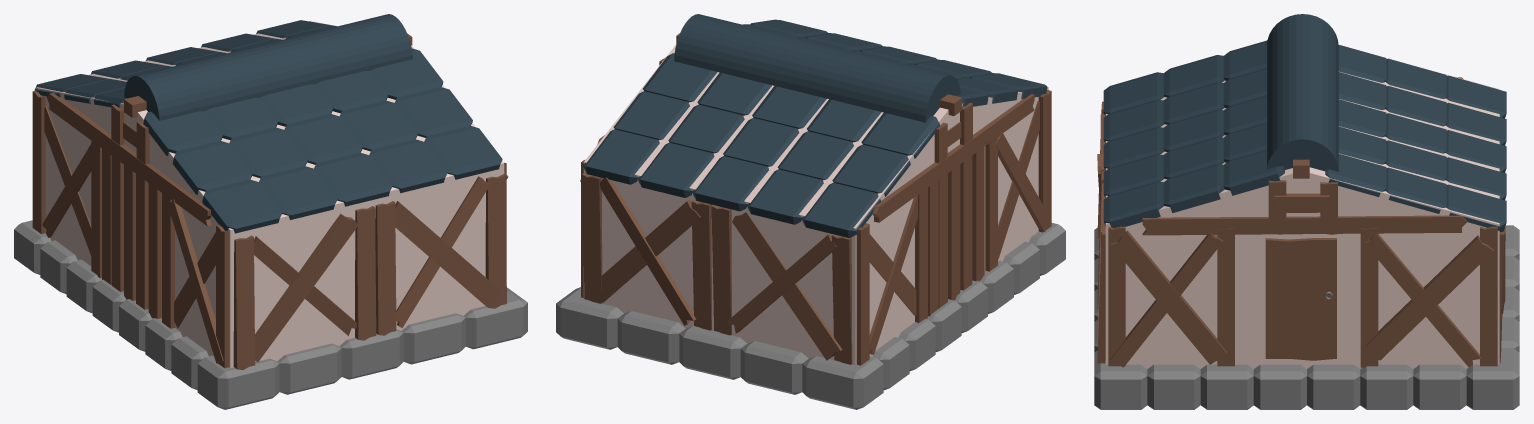
The picture shows the model from 3 angles, left to right: view 1: azimuth 30°, elevation 25°; view 2: azimuth 150°, elevation 25°; view 3: azimuth 270°, elevation 25°; orthographic projection. The views are drawn at different scales.
Parts seen in each view (by area): view 1: Cube.015, Cube.002, Cube.001, Cube; view 2: Cube.015, Cube.002, Cube.001, Cube; view 3: Cube.015, Cube.002, Cube.001, Cube.
Part boxes in pixels (x1,y1,x2,y2): Cube.015: (34,14,502,233); Cube.002: (32,33,508,370); Cube.001: (35,21,504,368); Cube: (14,220,527,409); Cube.015: (583,14,1047,237); Cube.002: (580,33,1051,365); Cube.001: (583,44,1048,365); Cube: (556,223,1065,409); Cube.015: (1103,14,1506,232); Cube.002: (1097,77,1505,367); Cube.001: (1105,58,1499,368); Cube: (1094,225,1519,409).
Bounding box in the file's own units: 1009 × 832 × 1181.
